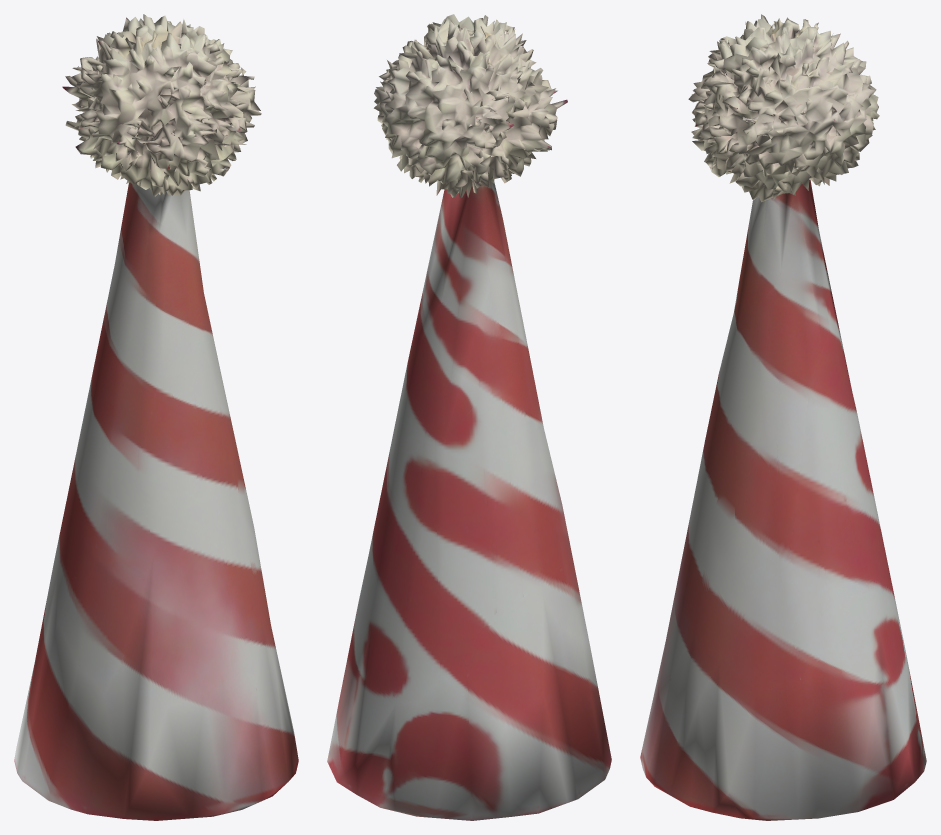
Rendered from party_cone.glb.
3 renders of one model, left to right at view 1: azimuth 30°, elevation 25°; view 2: azimuth 150°, elevation 25°; view 3: azimuth 270°, elevation 25°, orthographic.
Bounding box in the file's own units: 0.6938 × 2 × 0.704.
Materials: 1 (1 with a texture image).
